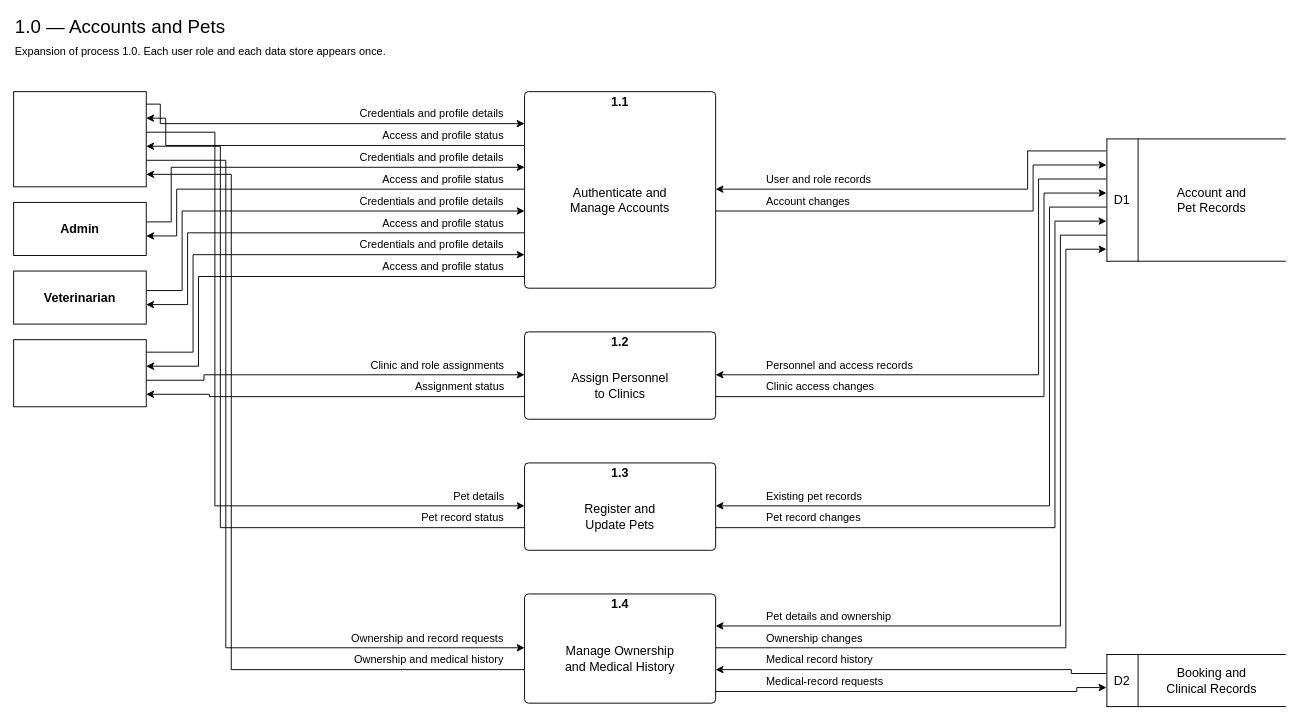
The diagram is 1299 pixels wide and 720 high, and some of its shapes have lost their labels. Here are the shapes that lost their labels. From the top down, the centre of each, then its label:
the point at 79,139: Pet Owner
the point at 79,373: Super Admin
